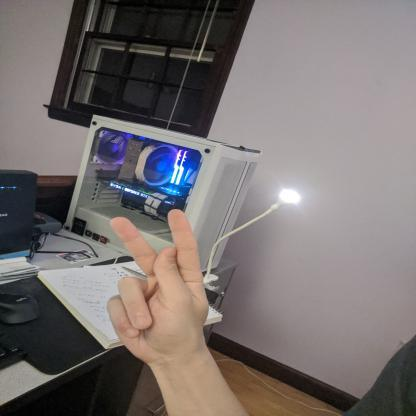K: (100, 206, 214, 365)
